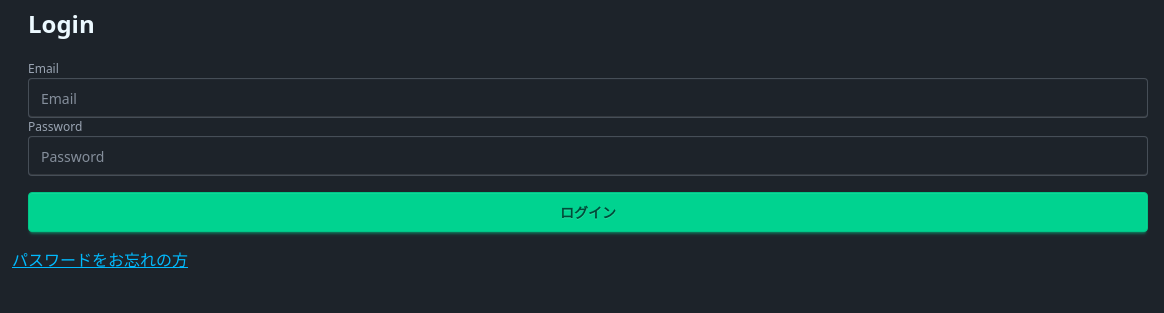
Test: LoginForm.tsx › onSubmitのテスト › 認証失敗時にエラーメッセージが表示される
Type "example@email.com" into the field with test id "login-email-input" at (588, 98), box [28,78,1148,118]
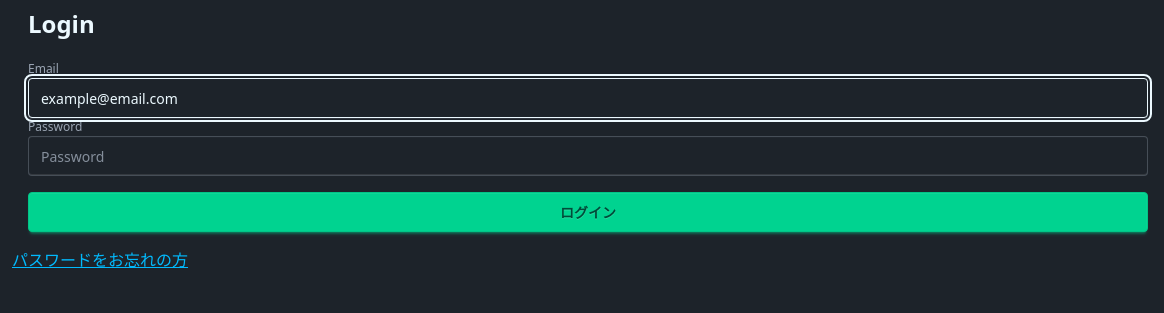
Type "passwordForTest" into the password field with test id "login-password-input" at (588, 156), box [28,136,1148,176]
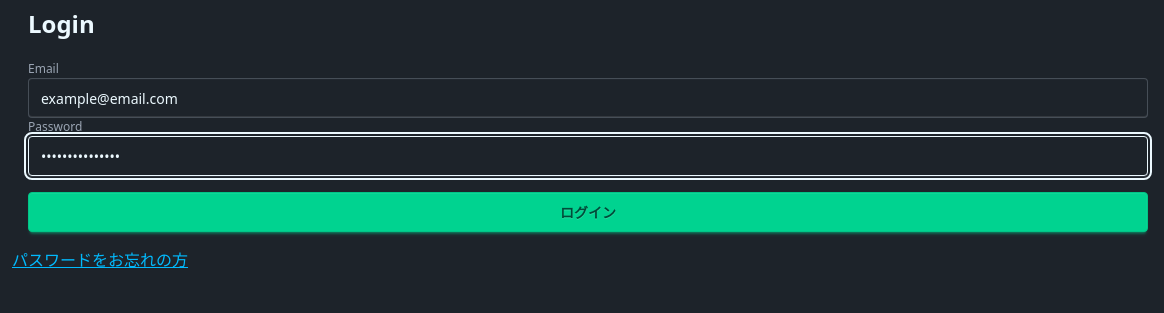
Click the button "ログイン" at (588, 212), box [28,192,1148,232]
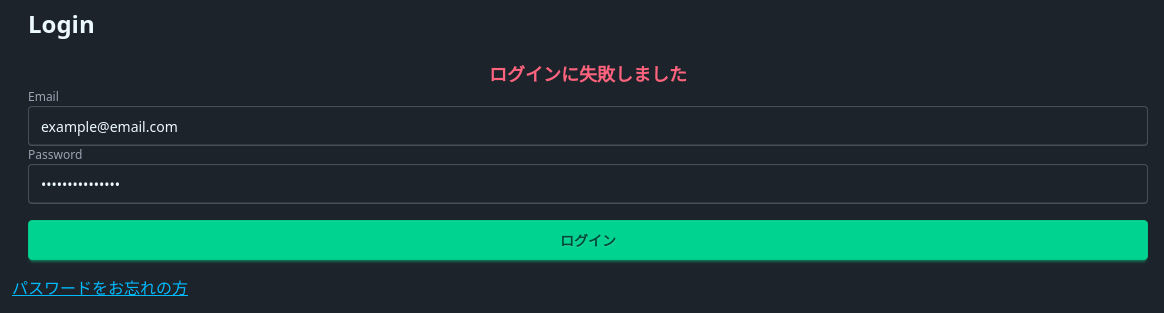
Expected: the text "ログインに失敗しました" is shown, [489,62,687,86]
